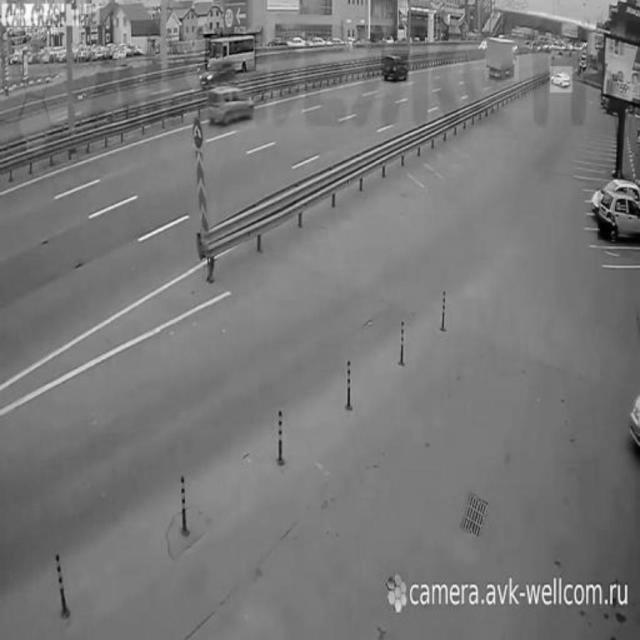vehicle: (205, 82, 255, 128), (598, 191, 640, 241), (205, 34, 256, 71), (485, 37, 519, 81), (381, 50, 408, 80), (550, 67, 572, 93)
